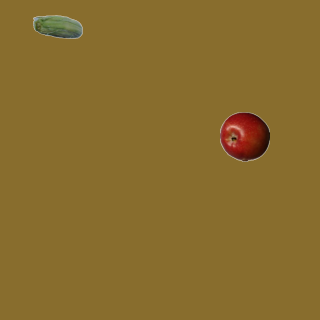Apple Braeburn: (219, 111, 269, 161)
Corn Husk: (32, 3, 82, 53)
